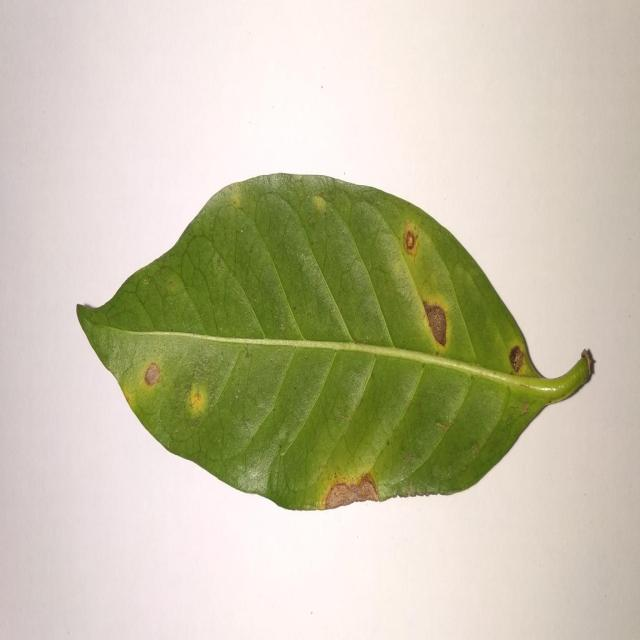Enfermedad-Mancha-de-hierro: (75, 173, 596, 512)
